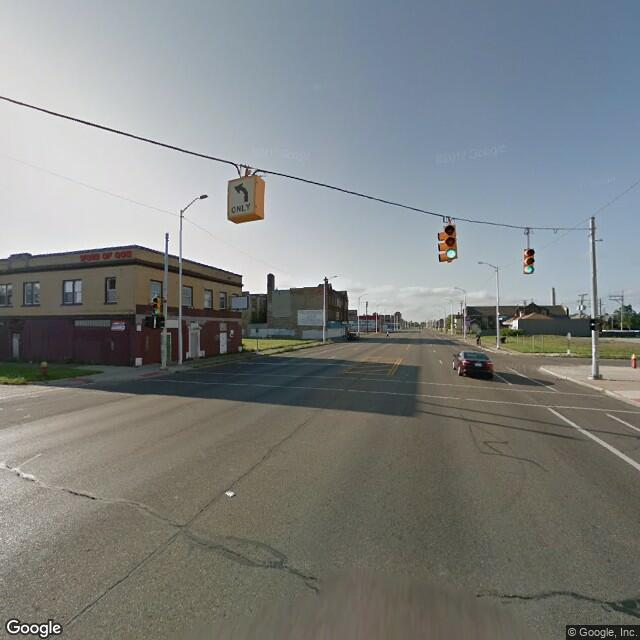litter: (226, 488, 236, 498)
